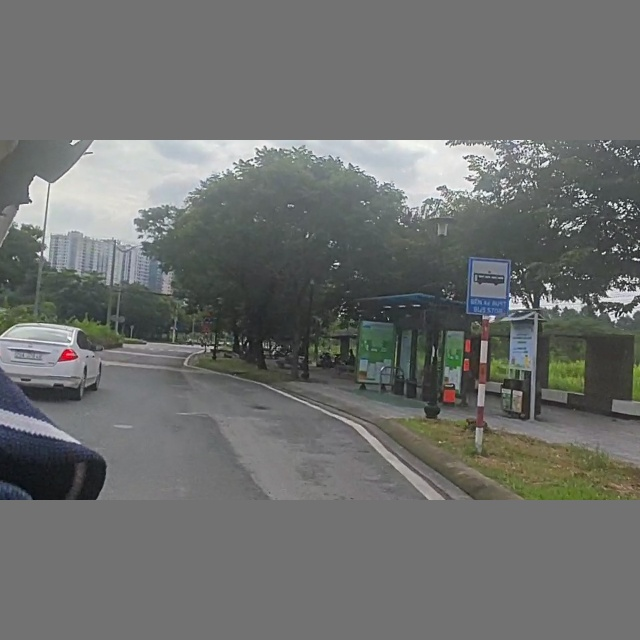I.434a: (463, 250, 516, 323)
